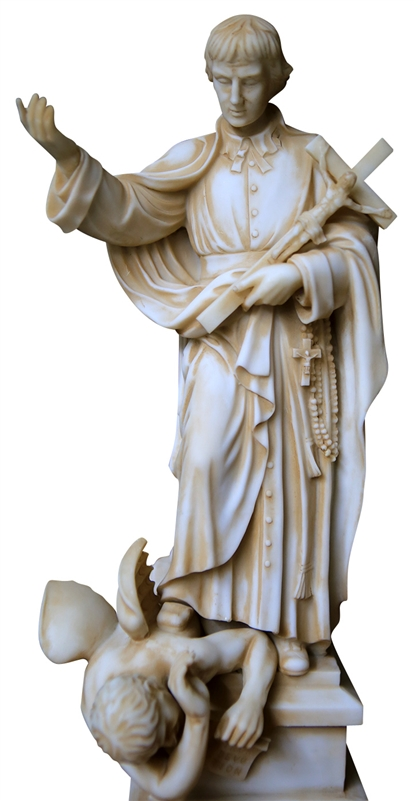person-like: (10, 10, 394, 656), (33, 569, 282, 798)
